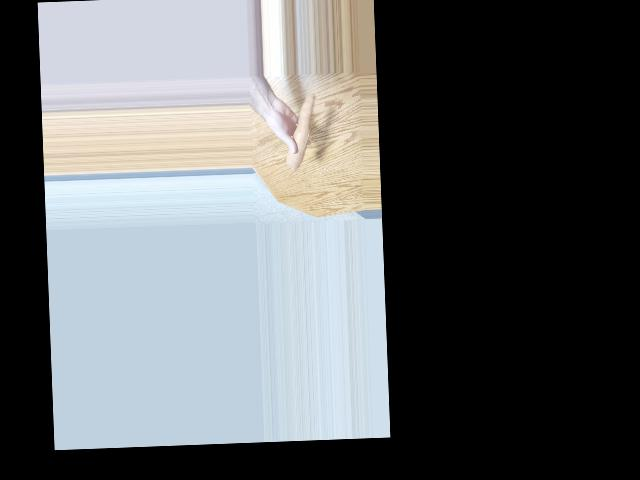sweet_potato: (287, 89, 312, 169)
